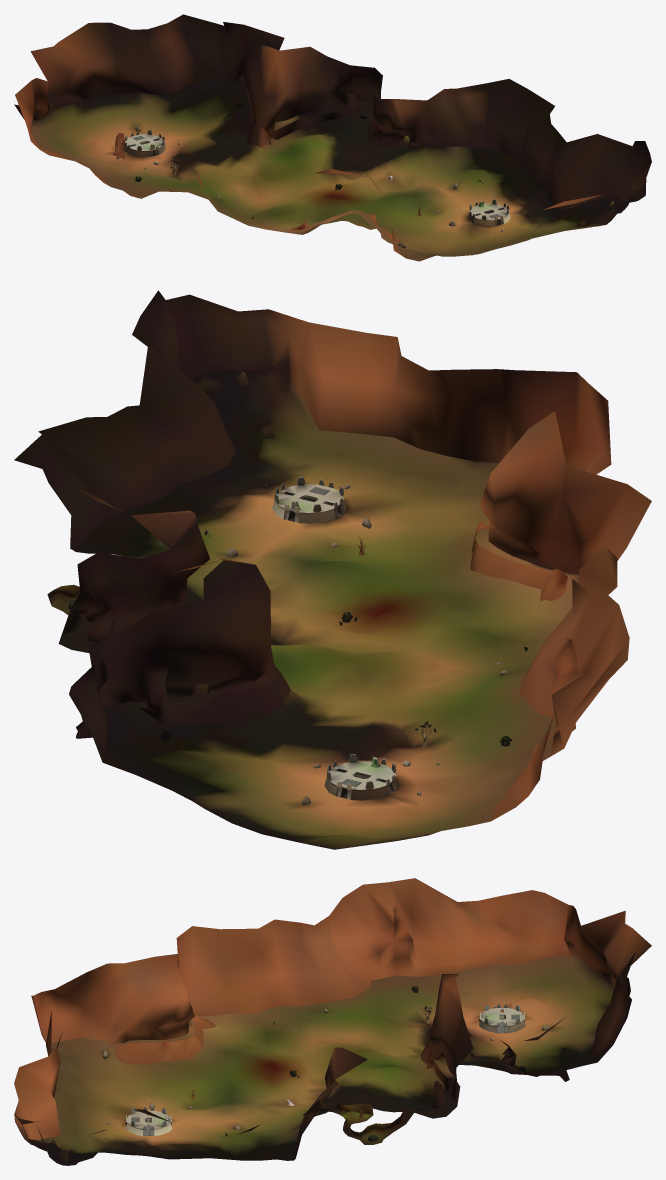
Rendered from BGL.glb.
The picture shows the model from 3 angles, top to bottom: view 1: azimuth 30°, elevation 25°; view 2: azimuth 150°, elevation 25°; view 3: azimuth 270°, elevation 25°; orthographic projection. The views are drawn at different scales.
Parts seen in each view (by area): view 1: BGL; view 2: BGL; view 3: BGL.
Boxes of the visible parts, <box> form: BGL: <box>14,14,651,261</box>; BGL: <box>14,290,651,849</box>; BGL: <box>14,878,651,1165</box>.
Size of the model in its own units: 384 by 84.77 by 442.
